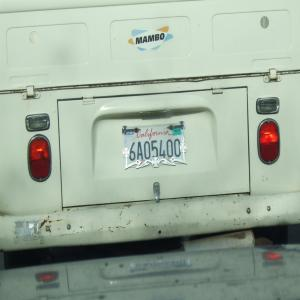Vehicle-registration-plate: (125, 128, 187, 168)
